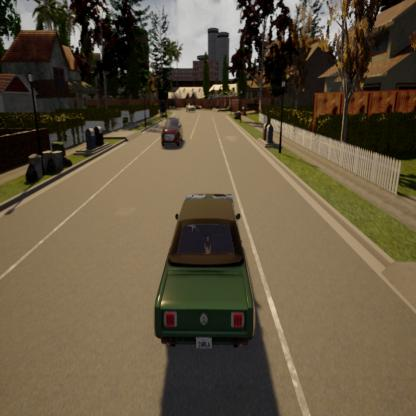Cars: (149, 186, 259, 364), (158, 114, 186, 150), (183, 102, 199, 116)
